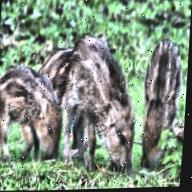boar: (55, 26, 176, 174), (131, 23, 190, 171), (0, 63, 78, 159)
